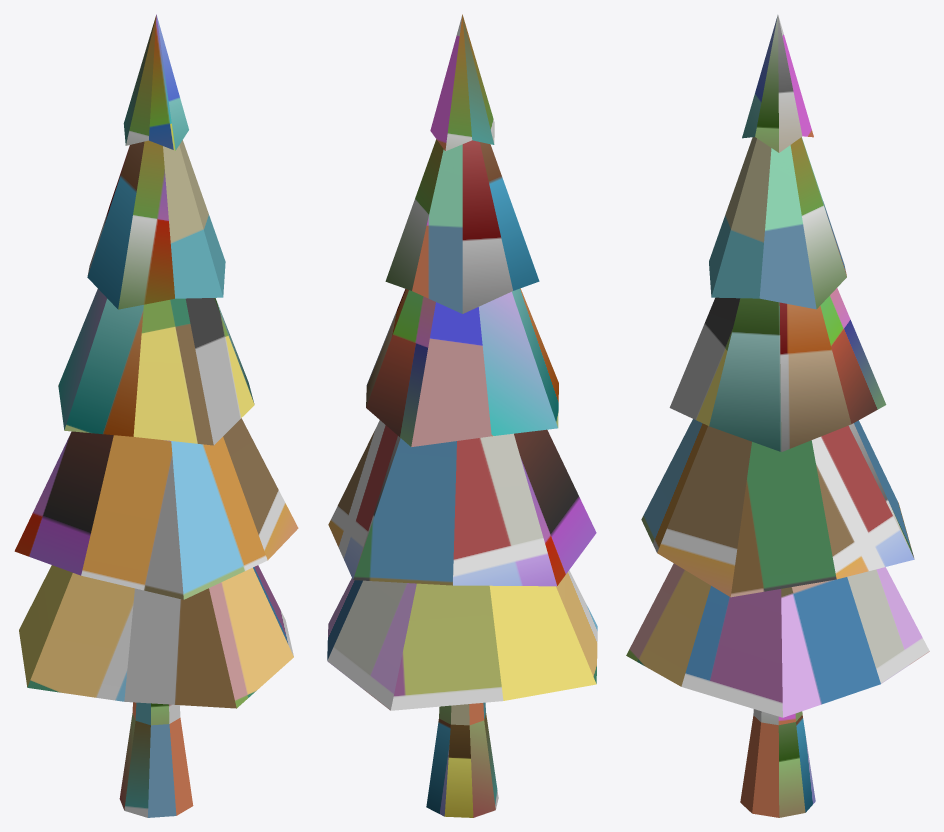
File: tree_b.glb
The picture shows the model from 3 angles, left to right: view 1: azimuth 30°, elevation 25°; view 2: azimuth 150°, elevation 25°; view 3: azimuth 270°, elevation 25°; orthographic projection.
Visible parts, largest first — view 1: Lowpoly_Pine_01_Orange_SimplePolygonPalette_0; view 2: Lowpoly_Pine_01_Orange_SimplePolygonPalette_0; view 3: Lowpoly_Pine_01_Orange_SimplePolygonPalette_0.
Boxes of the visible parts, x1,y1,x2,y2 form: Lowpoly_Pine_01_Orange_SimplePolygonPalette_0: (14,14,298,817); Lowpoly_Pine_01_Orange_SimplePolygonPalette_0: (327,14,597,817); Lowpoly_Pine_01_Orange_SimplePolygonPalette_0: (626,15,929,817).
Size of the model in its own units: 2.01 by 5.74 by 2.01.
1 material, 1 textured.
